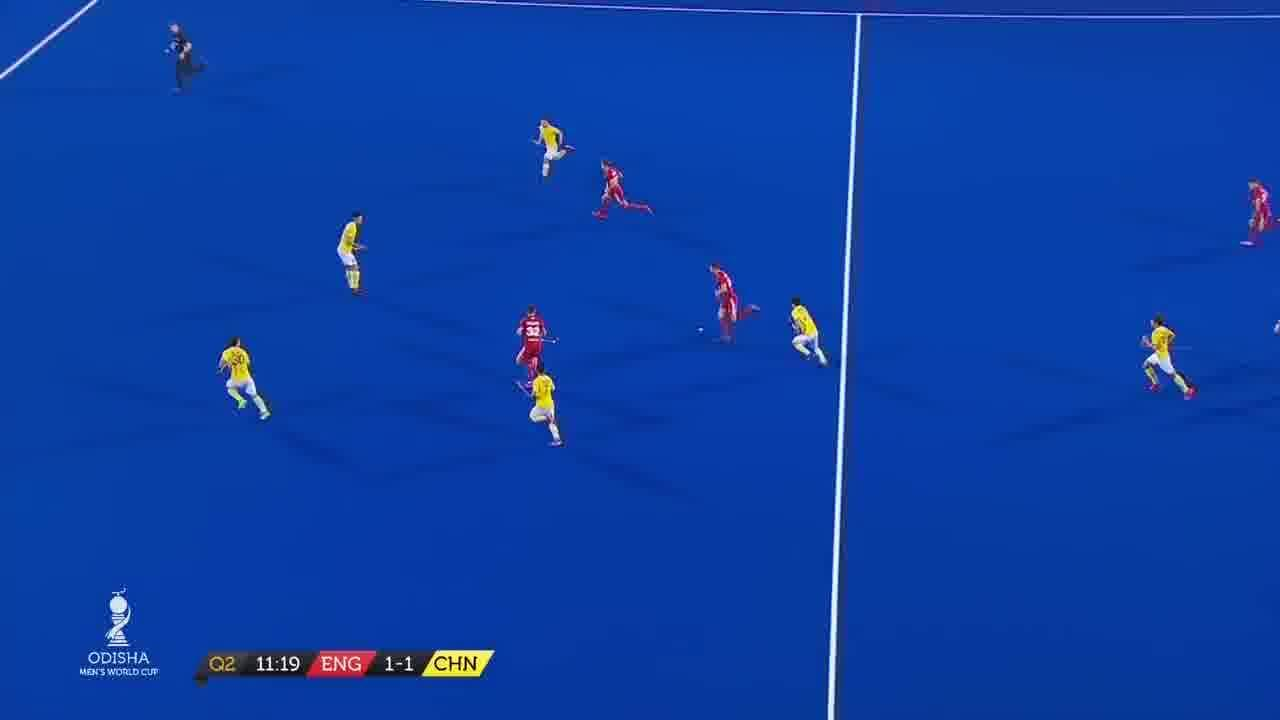ball: (693, 320, 709, 342)
